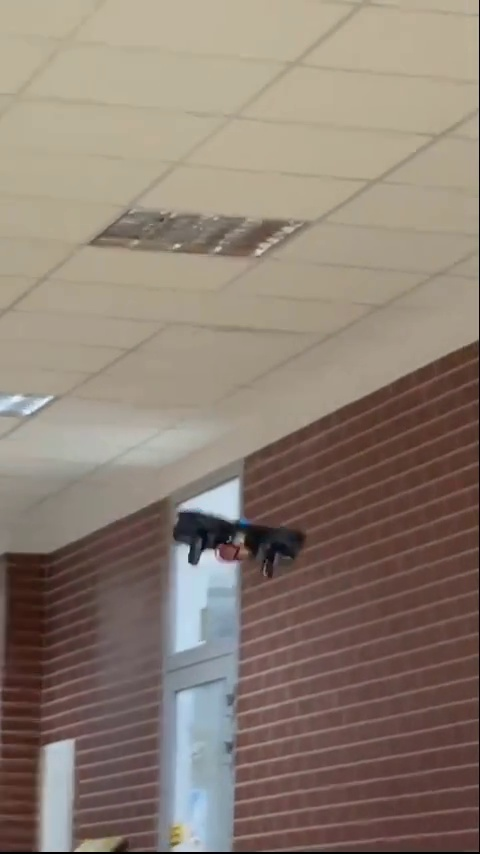drone: (173, 506, 304, 578)
